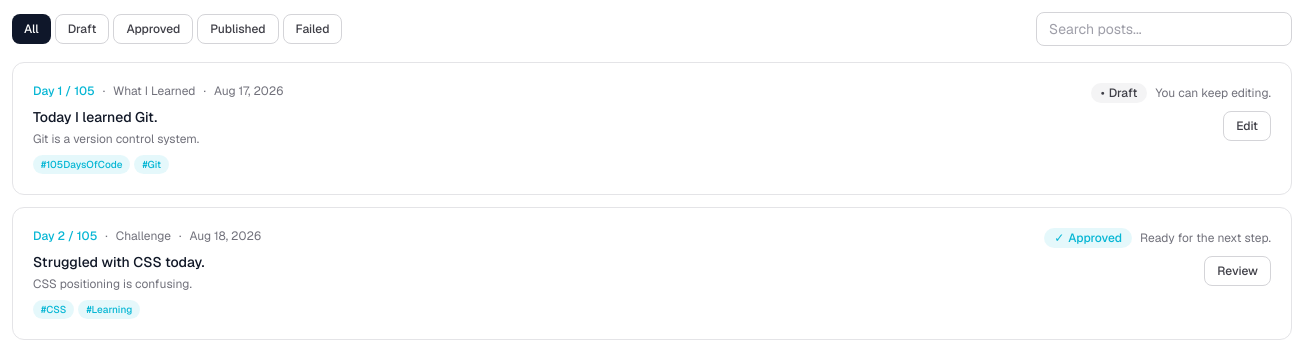
PostList › shows no results message when filter matches nothing
The width and height of the screenshot is (1304, 357).
Click the button "Failed" at (312,29), box [282,14,342,44]
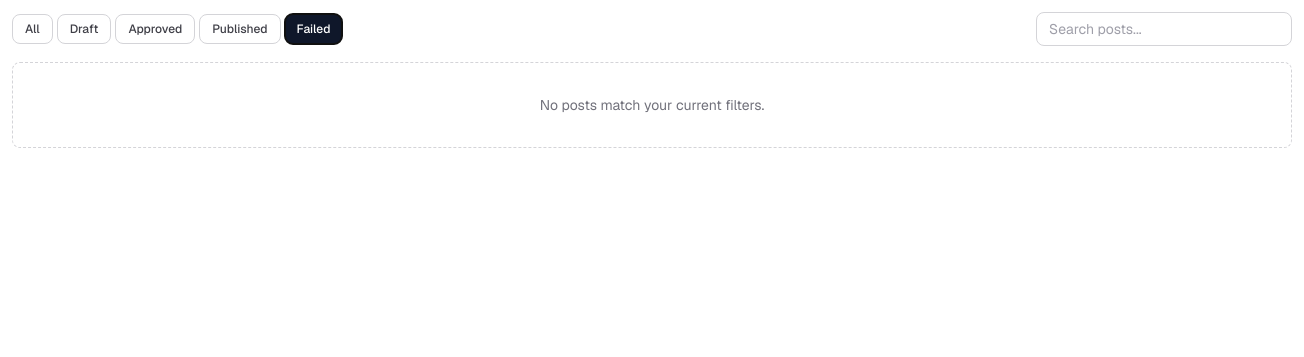
Now the text "No posts match your current filters." is shown, box [540,96,764,114]
